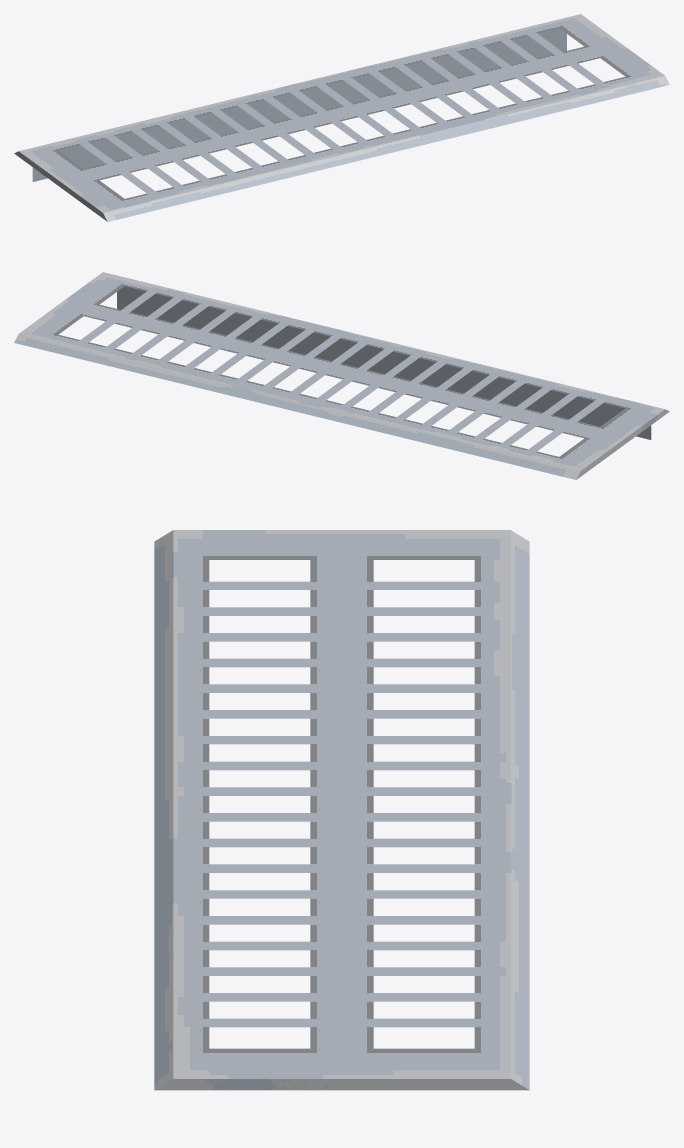
Rendered from 00a9_Steel_Cover.glb.
3 renders of one model, top to bottom at view 1: azimuth 30°, elevation 25°; view 2: azimuth 150°, elevation 25°; view 3: azimuth 270°, elevation 25°, orthographic. The views are drawn at different scales.
Parts seen in each view (by area): view 1: part_0; view 2: part_0; view 3: part_0.
Boxes of the visible parts, x1,y1,x2,y2 form: part_0: (14, 14, 669, 221); part_0: (14, 272, 669, 479); part_0: (154, 530, 529, 1090).
Bounding box in the file's own units: 0.9 × 0.0526 × 0.26.
1 material, 1 textured.
